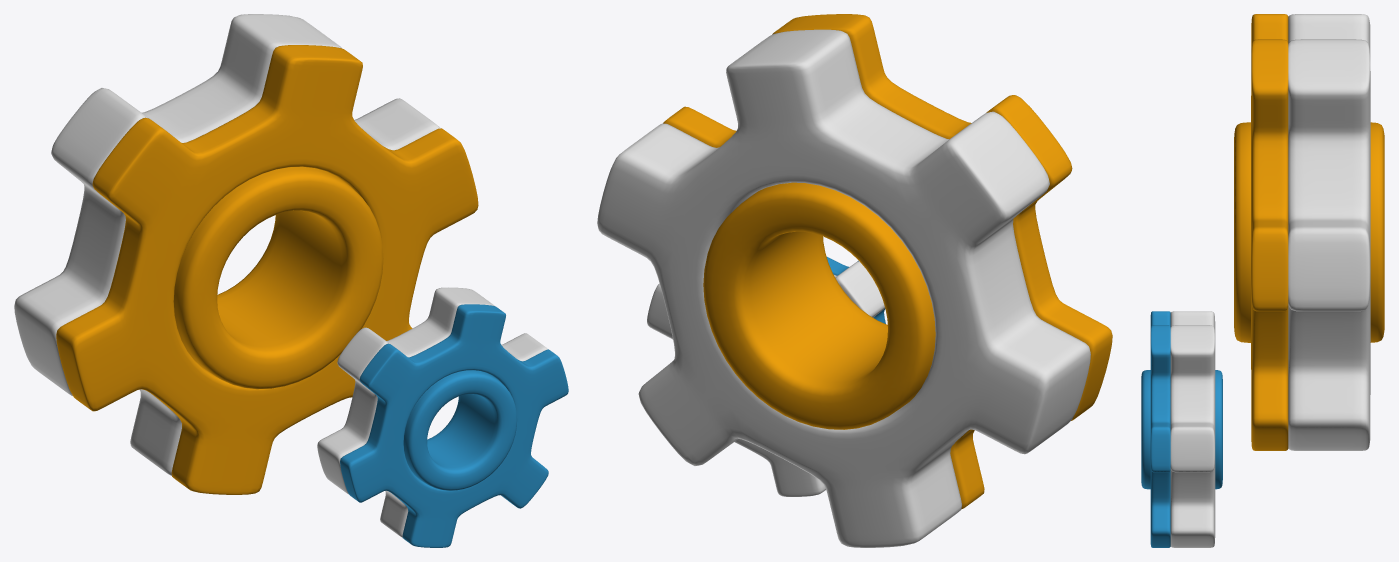
File: gears-animated-3d-icon-1330265691367.glb
The picture shows the model from 3 angles, left to right: view 1: azimuth 30°, elevation 25°; view 2: azimuth 150°, elevation 25°; view 3: azimuth 270°, elevation 25°; orthographic projection. The views are drawn at different scales.
Parts seen in each view (by area): view 1: Gear 1.001, Circle.006, Gear 2.001, Gear 1.002, Circle.007, Gear 2.002; view 2: Gear 2.001, Circle.006, Gear 1.001, Gear 2.002; view 3: Gear 2.001, Gear 1.001, Gear 2.002, Circle.006, Gear 1.002, Circle.007.
Part boxes in pixels (bbox=[...]): Gear 1.001: bbox=[56, 45, 478, 494]; Circle.006: bbox=[173, 166, 383, 389]; Gear 2.001: bbox=[14, 14, 440, 475]; Gear 1.002: bbox=[340, 304, 568, 547]; Circle.007: bbox=[403, 370, 517, 490]; Gear 2.002: bbox=[317, 287, 547, 537]; Gear 2.001: bbox=[597, 29, 1090, 547]; Circle.006: bbox=[703, 182, 935, 429]; Gear 1.001: bbox=[663, 14, 1112, 509]; Gear 2.002: bbox=[647, 261, 884, 496]; Gear 2.001: bbox=[1288, 14, 1370, 450]; Gear 1.001: bbox=[1251, 14, 1288, 450]; Gear 2.002: bbox=[1170, 311, 1215, 547]; Circle.006: bbox=[1234, 122, 1384, 342]; Gear 1.002: bbox=[1150, 311, 1170, 547]; Circle.007: bbox=[1141, 370, 1222, 489].
Size of the model in its own units: 2.93 by 2.99 by 1.48.
